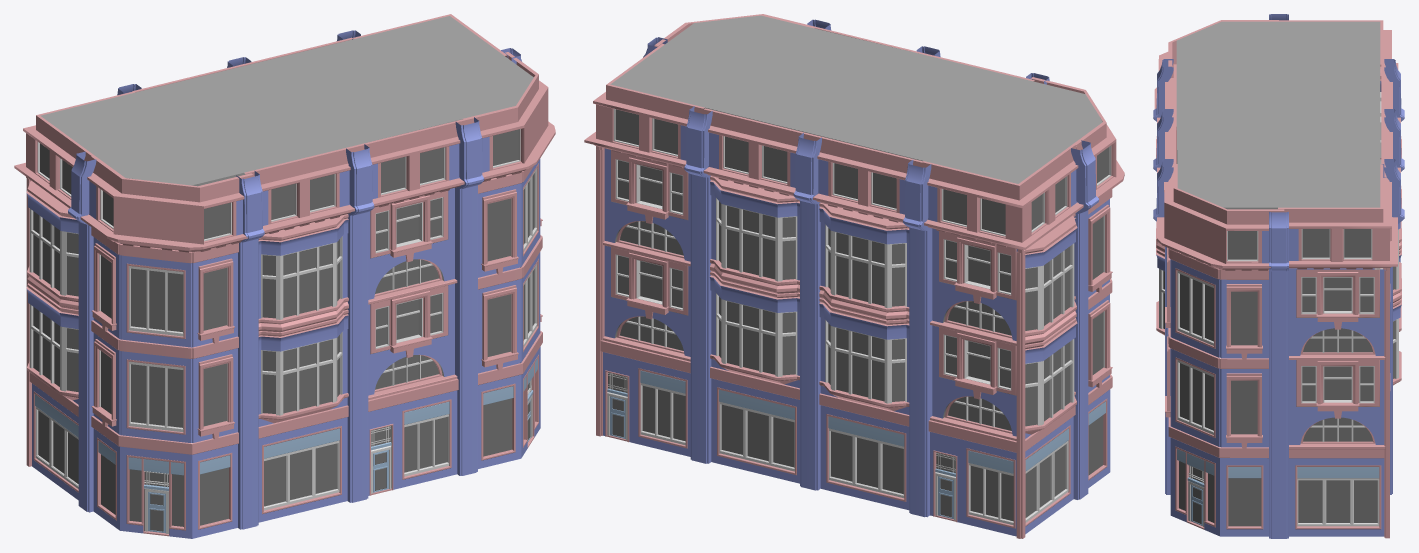
The model's file is MDL_B1_Preset_01.fbx.
The picture shows the model from 3 angles, left to right: view 1: azimuth 30°, elevation 25°; view 2: azimuth 150°, elevation 25°; view 3: azimuth 270°, elevation 25°; orthographic projection. The views are drawn at different scales.
Parts seen in each view (by area): view 1: MDL_B1_Preset_01; view 2: MDL_B1_Preset_01; view 3: MDL_B1_Preset_01.
Part boxes in pixels (bbox=[...]): MDL_B1_Preset_01: bbox=[14, 14, 555, 538]; MDL_B1_Preset_01: bbox=[584, 14, 1124, 538]; MDL_B1_Preset_01: bbox=[1153, 14, 1404, 538].
Size of the model in its own units: 2478 by 1838 by 1278.
